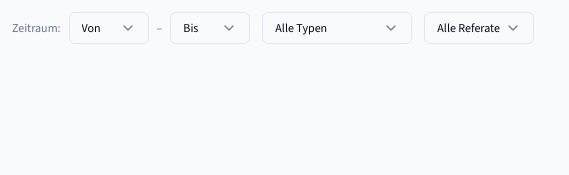
FilterBar › the Referat list › offers the number as the value and carries the name as a tooltip
Click the dropdown labelled "Referat" at {"x": 479, "y": 28}, box x1=424 y1=12 x2=534 y2=44
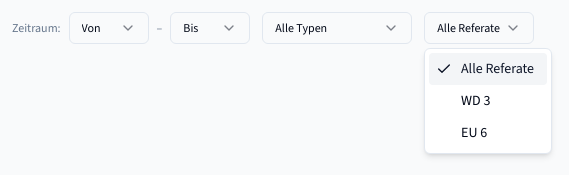
Check: the option "WD 3" is shown, box x1=461 y1=91 x2=490 y2=110
